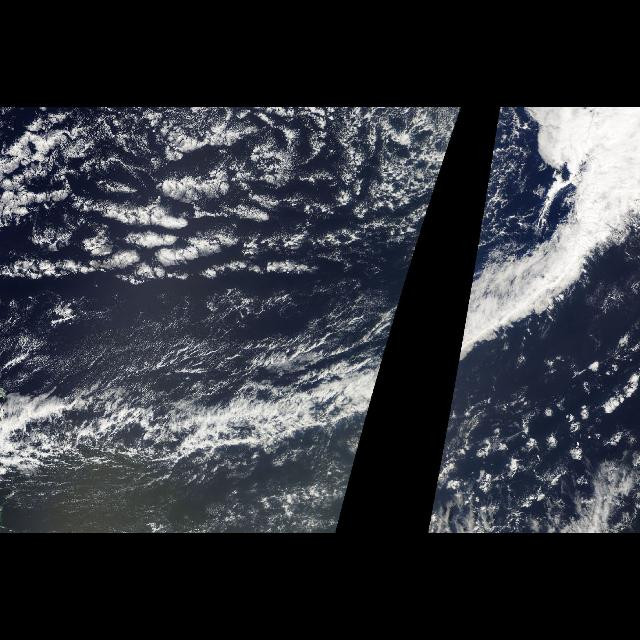Fish: (5, 312, 398, 486)
Flower: (1, 110, 378, 280), (432, 376, 636, 496)
Gravel: (1, 120, 393, 262)
Sugar: (18, 490, 154, 518)
